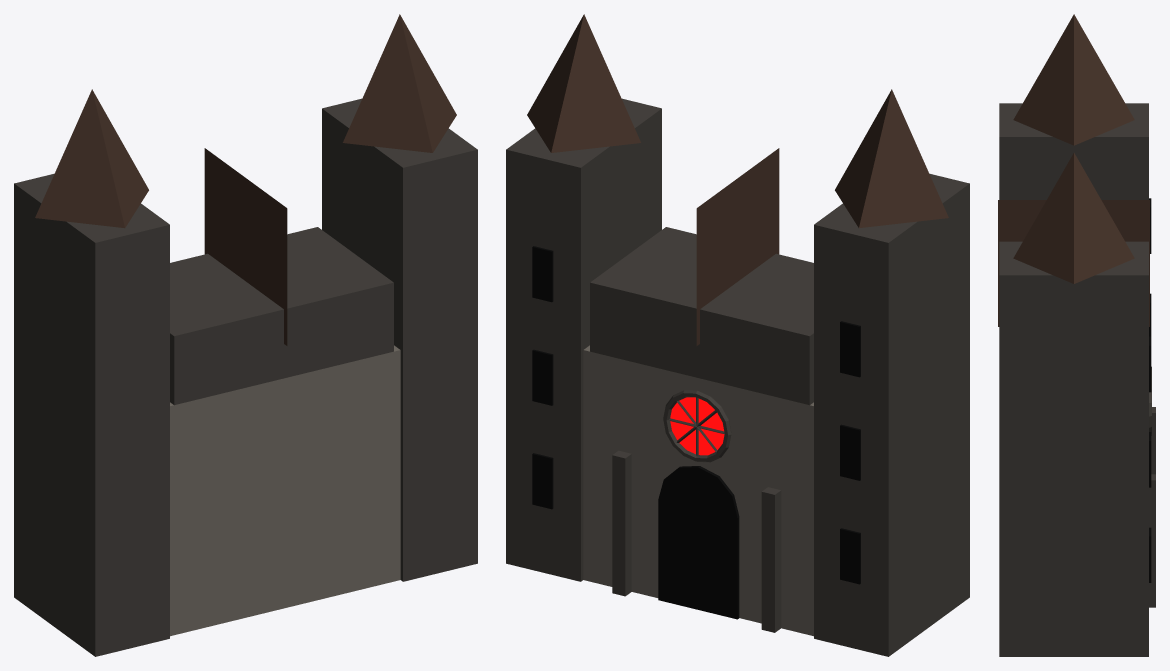
The model's file is cathedral.glb.
3 renders of one model, left to right at view 1: azimuth 30°, elevation 25°; view 2: azimuth 150°, elevation 25°; view 3: azimuth 270°, elevation 25°, orthographic. The views are drawn at different scales.
Parts seen in each view (by area): view 1: cathedral; view 2: cathedral; view 3: cathedral.
Boxes of the visible parts, x1,y1,x2,y2 form: cathedral: (14, 14, 477, 656); cathedral: (506, 14, 969, 656); cathedral: (998, 14, 1155, 656).
Size of the model in its own units: 19.2 by 23 by 6.75.
